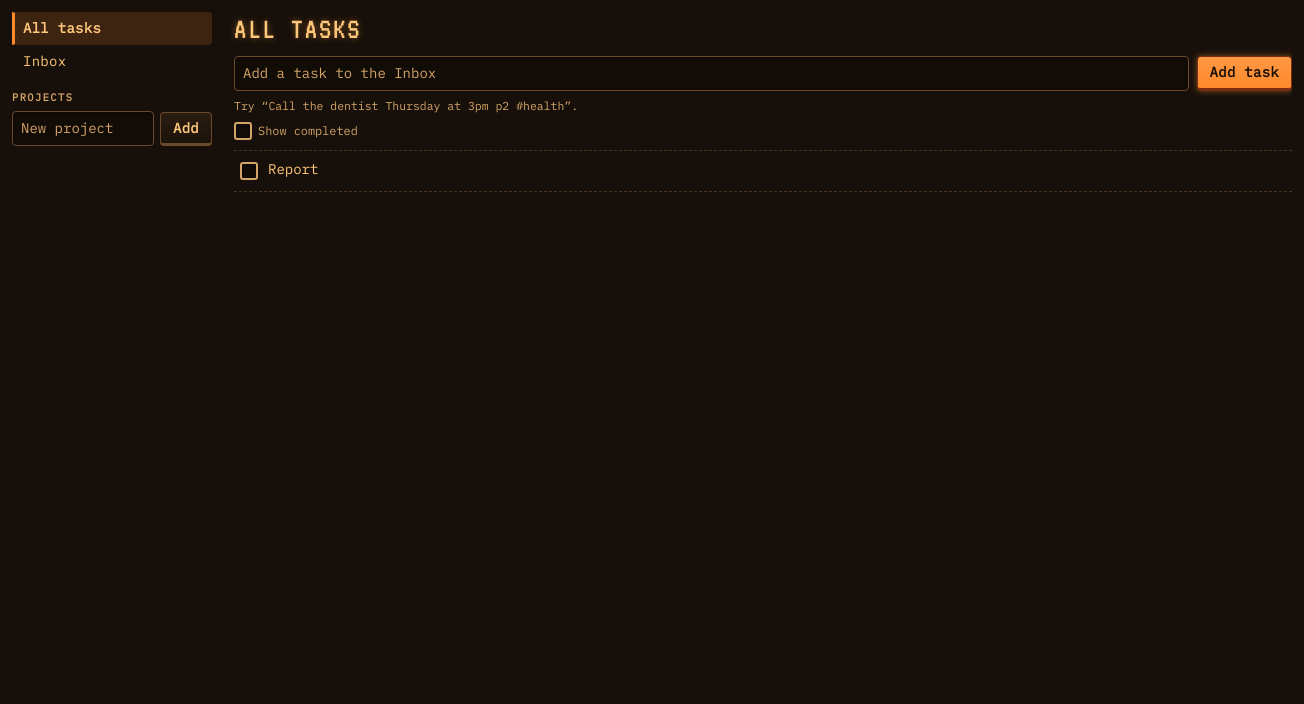
Test: TasksView › edits a task’s due date, time and priority, and shows them in the row
The width and height of the screenshot is (1304, 704).
Click the button "Report" at coordinates (293, 170), box [268, 159, 318, 180]
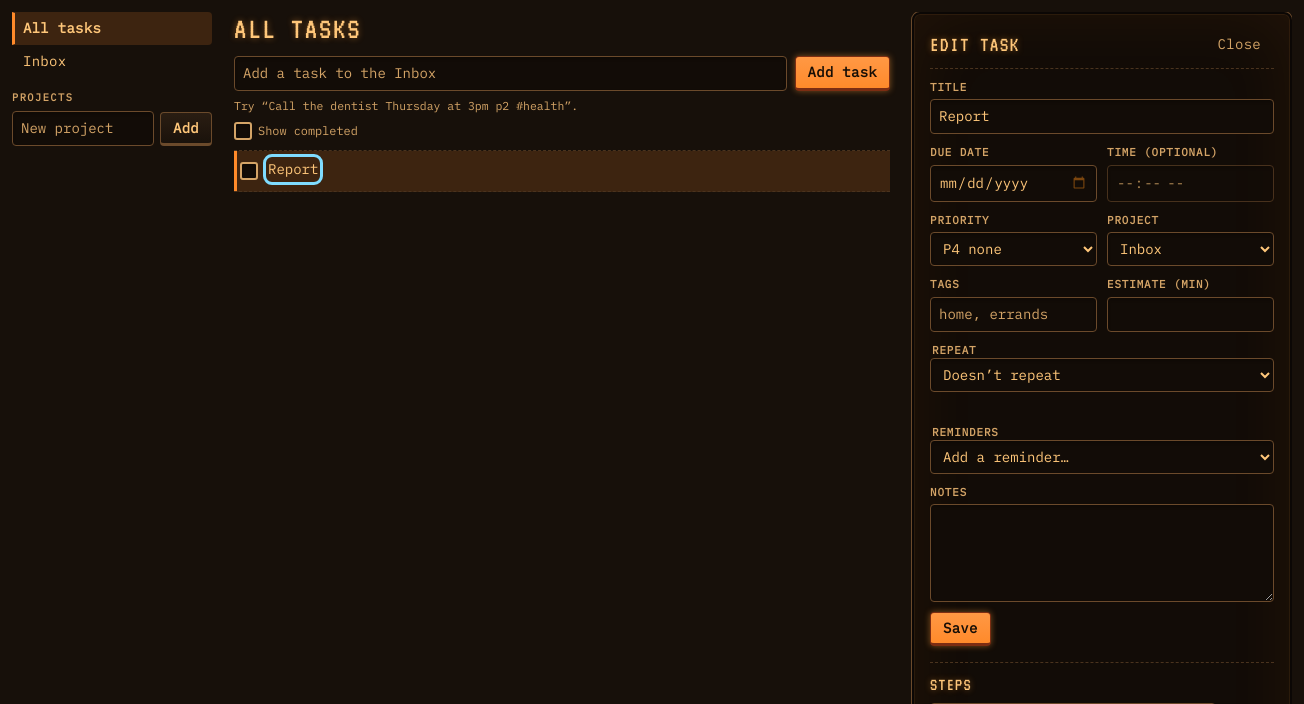
Type "2026-10-07" into the date field labelled "Due date" at coordinates (1014, 183), box [930, 165, 1097, 202]
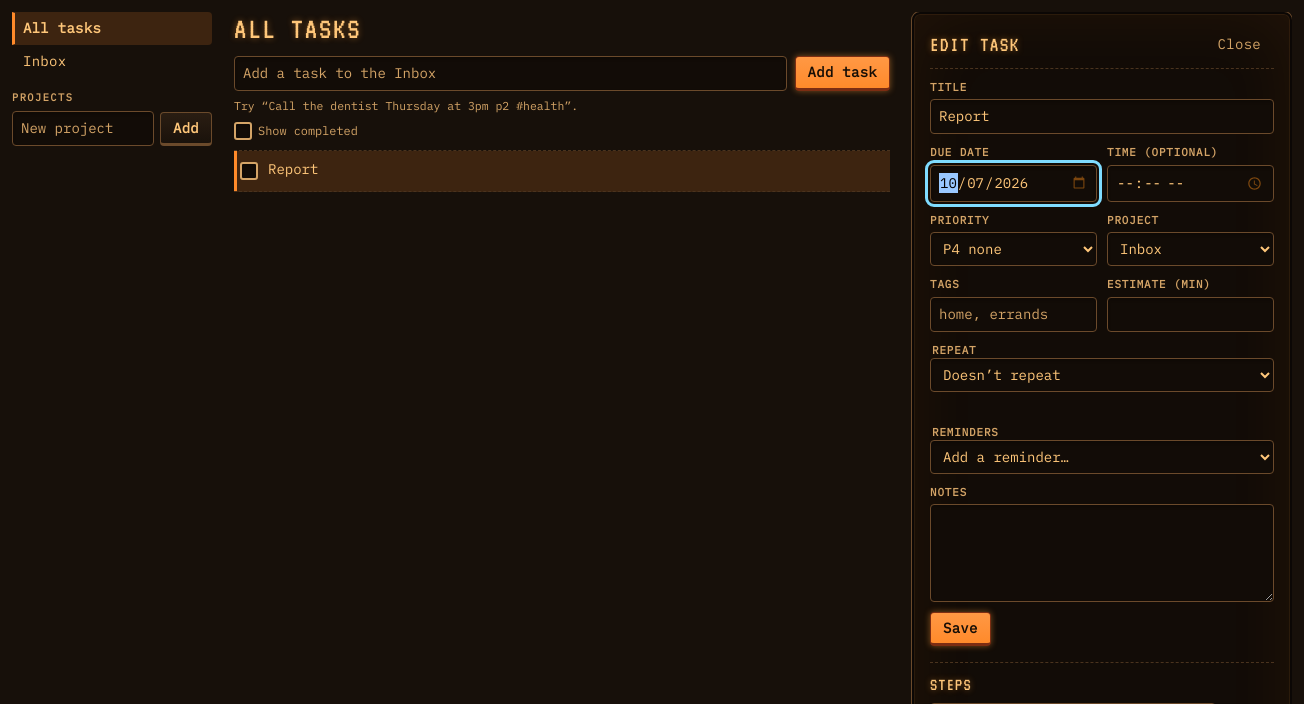
Type "13:30" into the time field labelled "Time (optional)" at coordinates (1190, 183), box [1107, 165, 1274, 202]
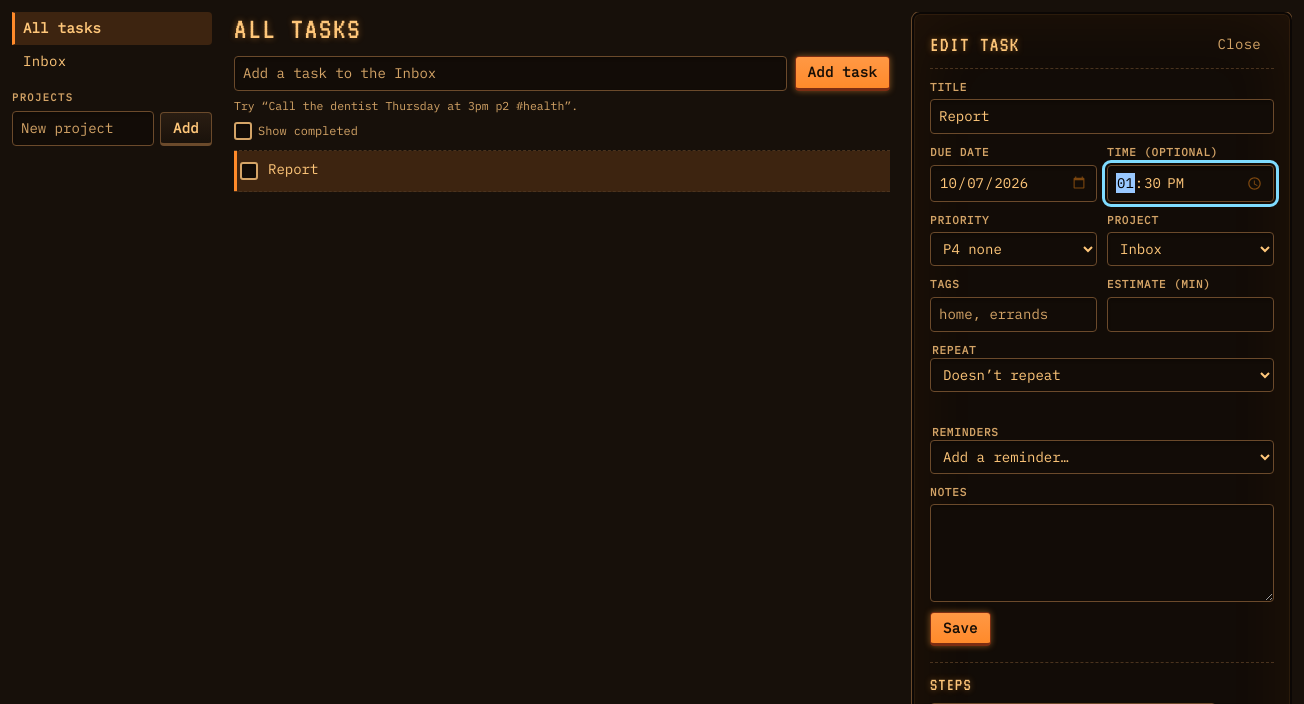
Select "P1 urgent" in the dropdown labelled "Priority" at coordinates (1014, 249), box [930, 232, 1097, 266]
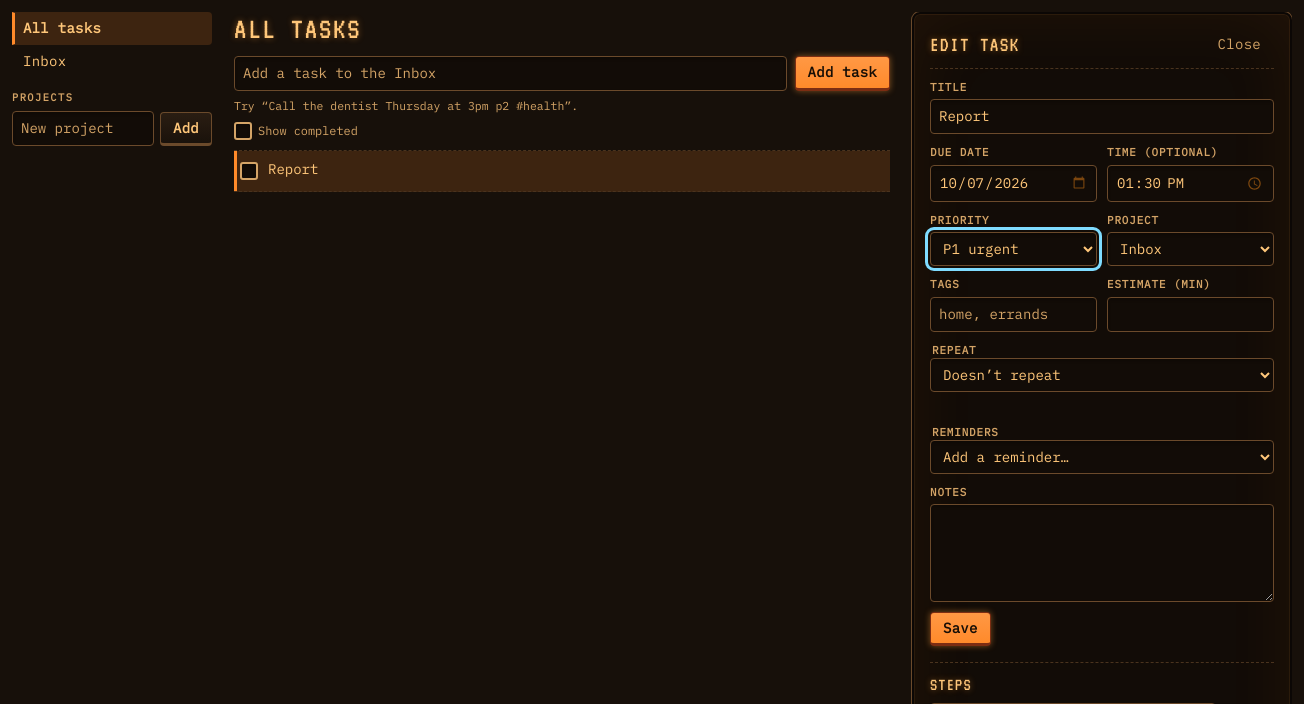
Click the button "Save" at coordinates (960, 629), box [930, 612, 991, 646]
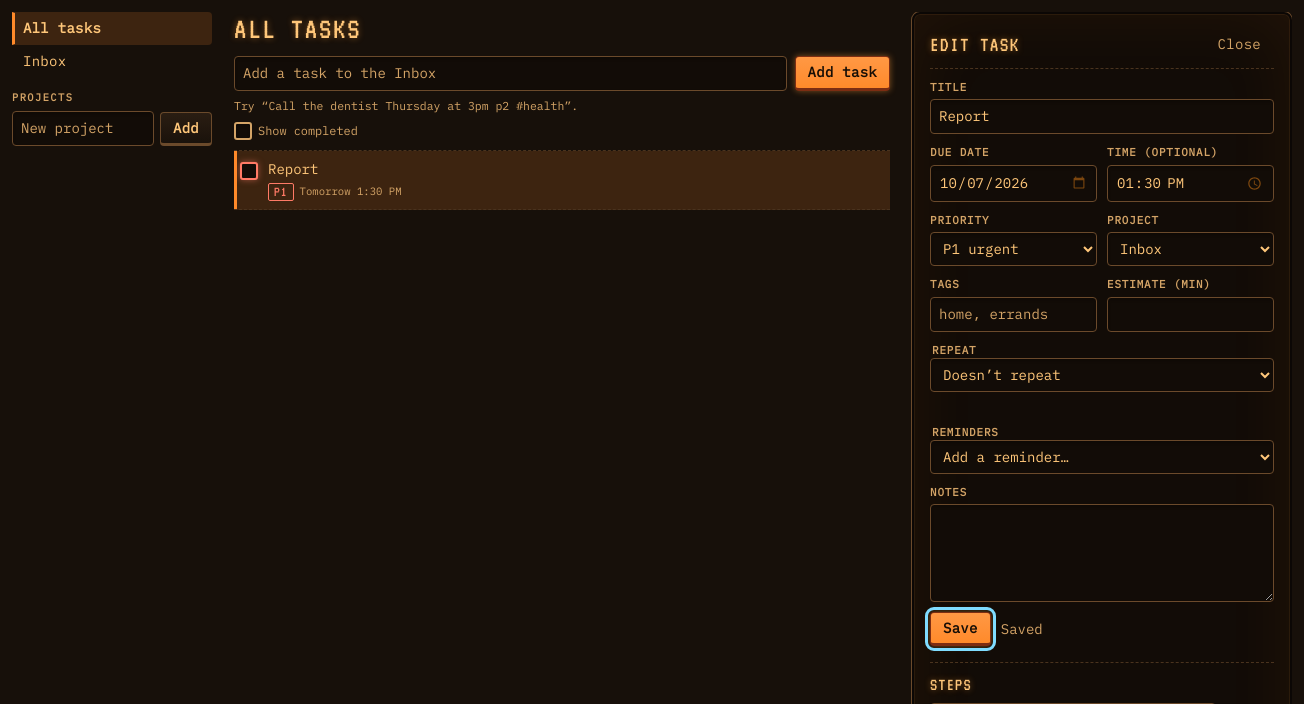
Result: the text "Saved" is shown at [1001, 619, 1043, 640]
Result: the text "P1" is shown at [268, 183, 294, 201]
Result: the text "Tomorrow 1:30 PM" is shown at [300, 184, 402, 200]
